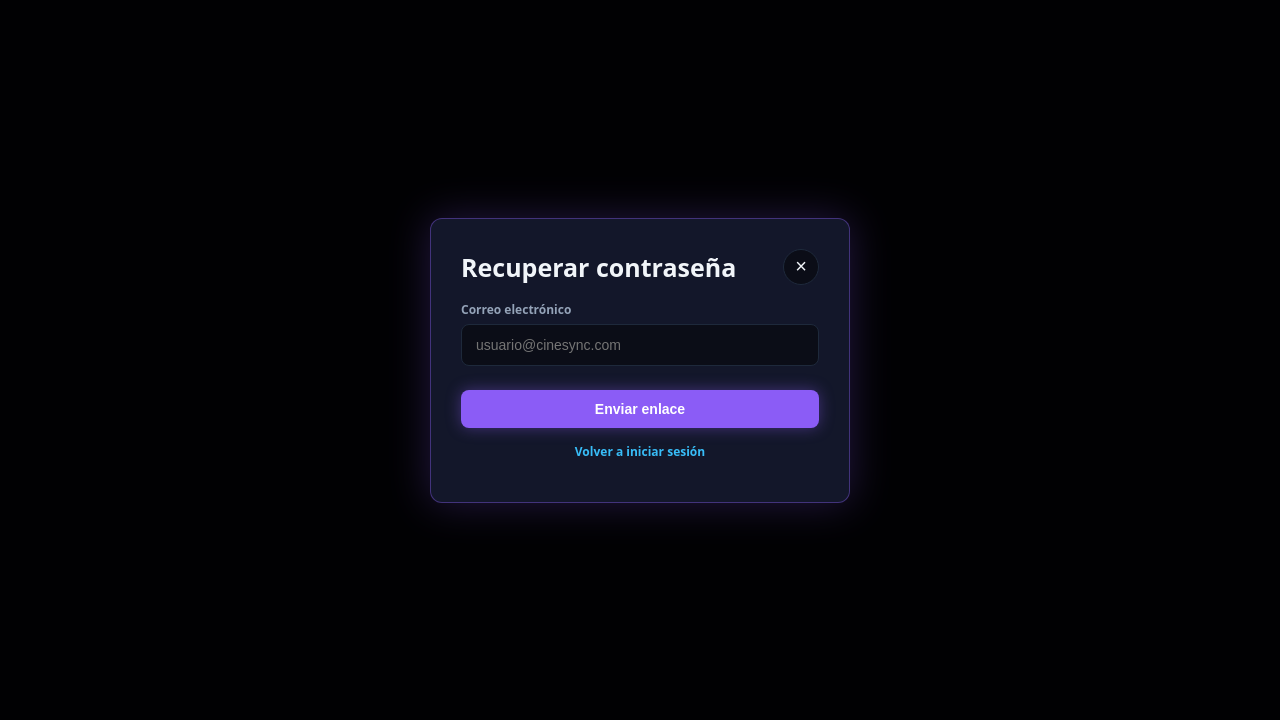
Test: ForgotPasswordPageComponent › shows the failure and lets the person try again when the request is rejected
The image size is (1280, 720).
Type "maria@cinesync.com" into the field with id "forgot-email" at (640, 344), box [461,324,819,366]
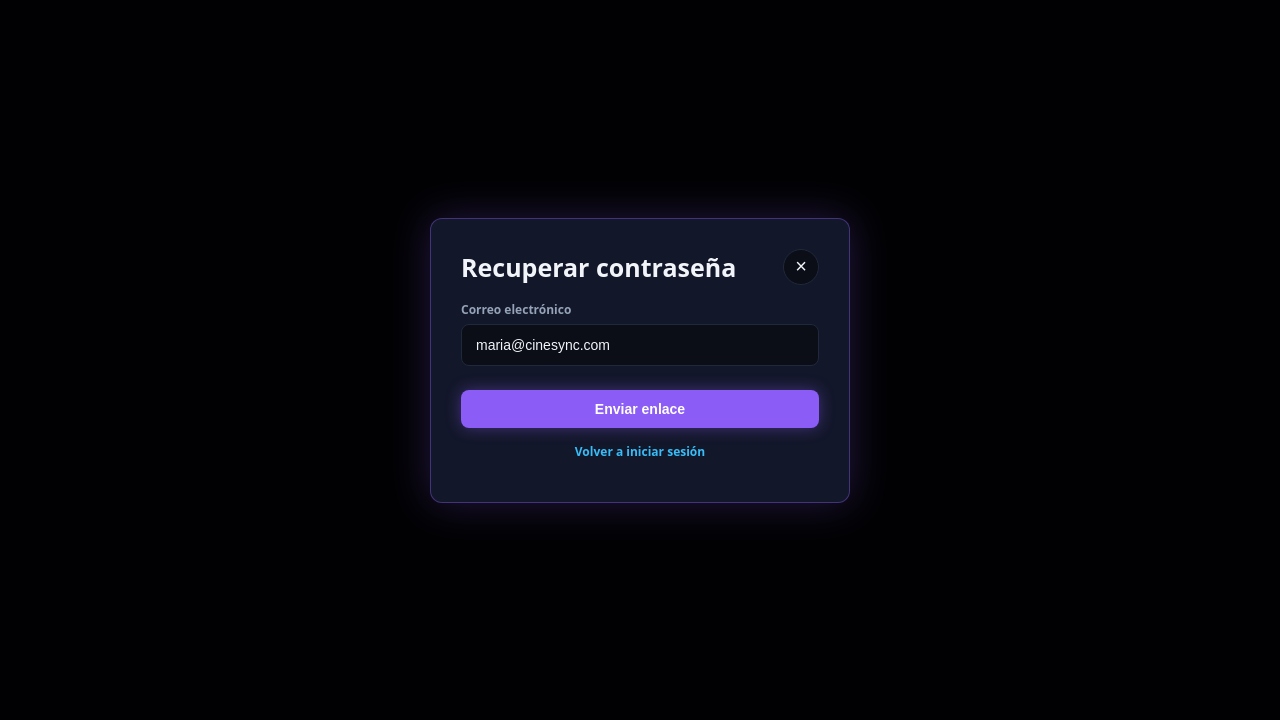
Submit the form, box [461,300,819,428]
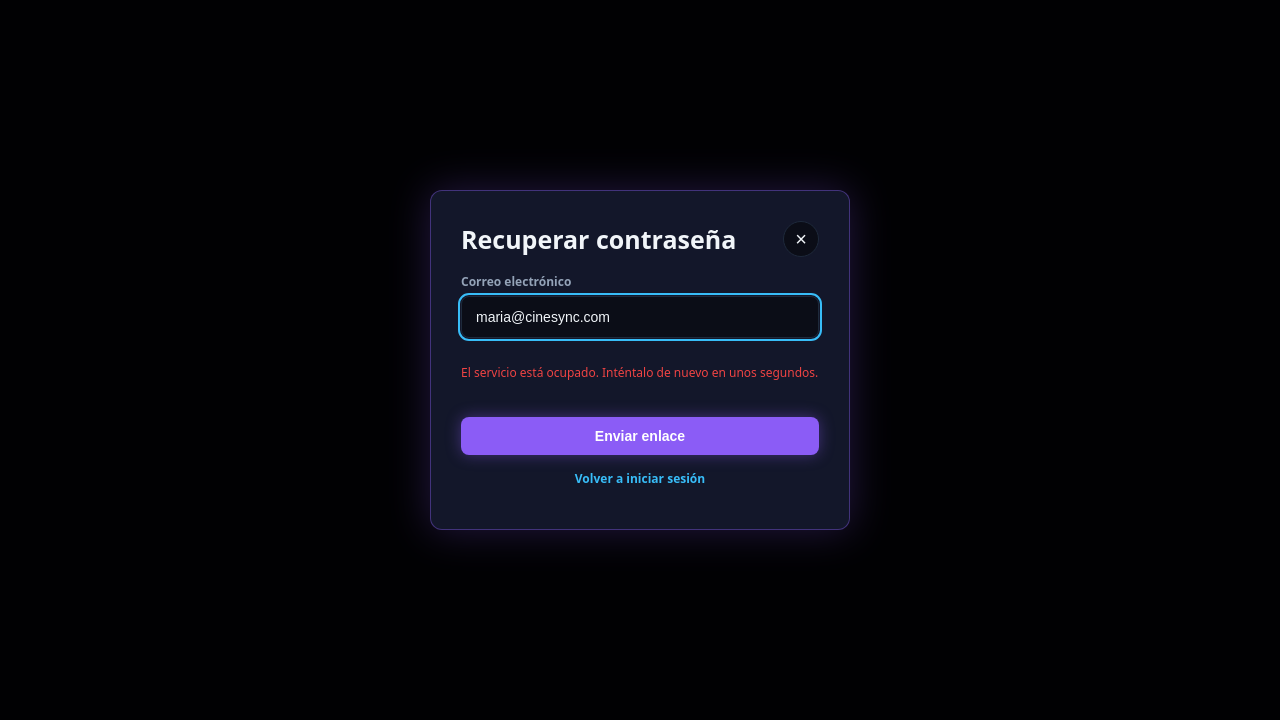
Expected: the submit button is enabled, [461,417,819,455]
Result: the message "El servicio está ocupado. Inténtalo de nuevo en unos segundos." is shown at [461,364,819,381]
